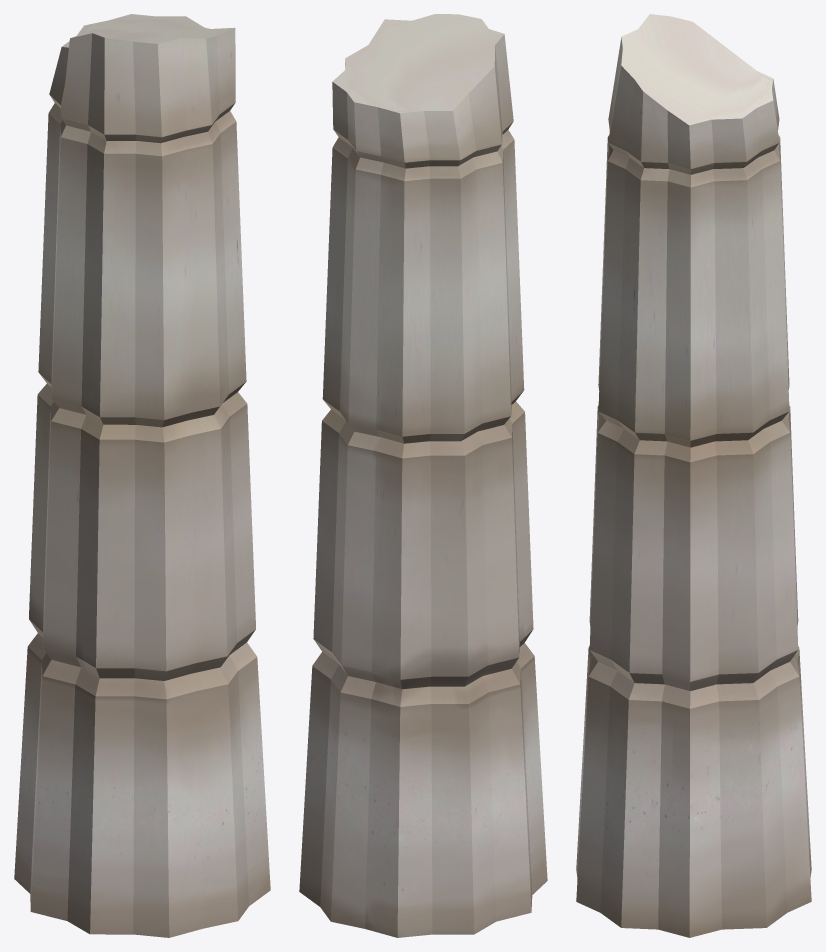
Rendered from 柱子大.fbx.
3 views of the same model, side by side, from view 1: azimuth 30°, elevation 25°; view 2: azimuth 150°, elevation 25°; view 3: azimuth 270°, elevation 25° (orthographic). The views are drawn at different scales.
Parts seen in each view (by area): view 1: 柱子大.001; view 2: 柱子大.001; view 3: 柱子大.001.
Boxes of the visible parts, left/top/right/bottom form: 柱子大.001: left=14, top=14, right=270, bottom=937; 柱子大.001: left=299, top=14, right=547, bottom=937; 柱子大.001: left=576, top=14, right=811, bottom=937.
Size of the model in its own units: 171 by 641 by 162.
Materials: 1 (1 with a texture image).
